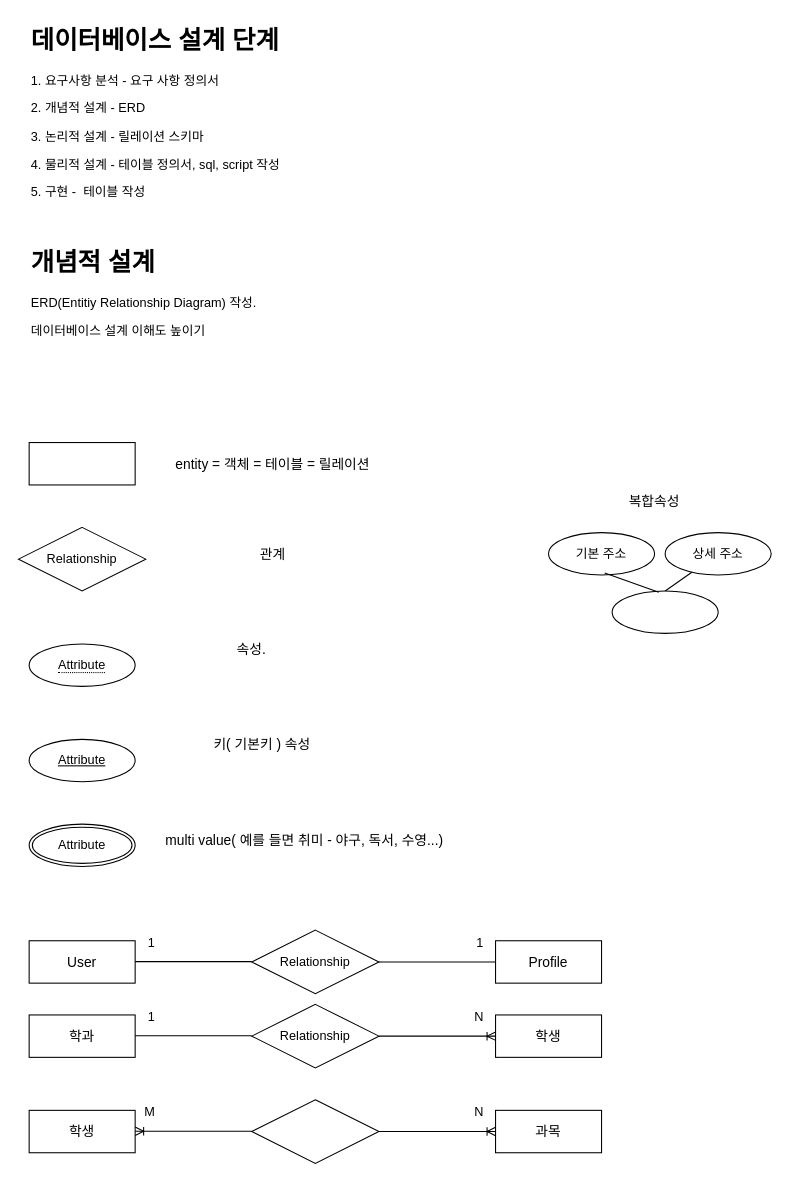
Some shapes in this 790 by 1182 pixel diagram are drawn without their labels. The shapes that lost their labels are listed below. From the top down, each one's centre as x and y in pixels, then its label:
point (81, 463): Entity
point (664, 611): 배송지
point (315, 1131): 수강
